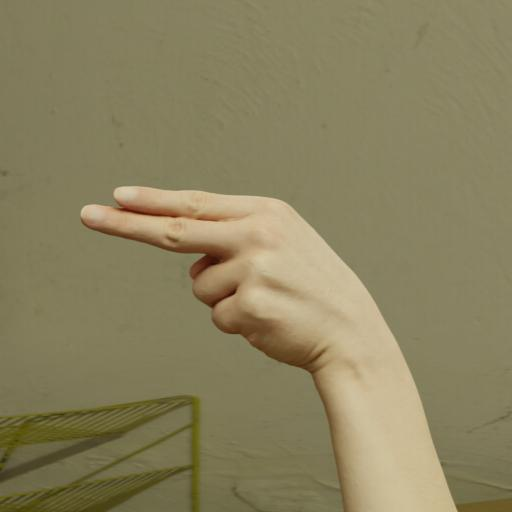nothing: (76, 166, 412, 378)
